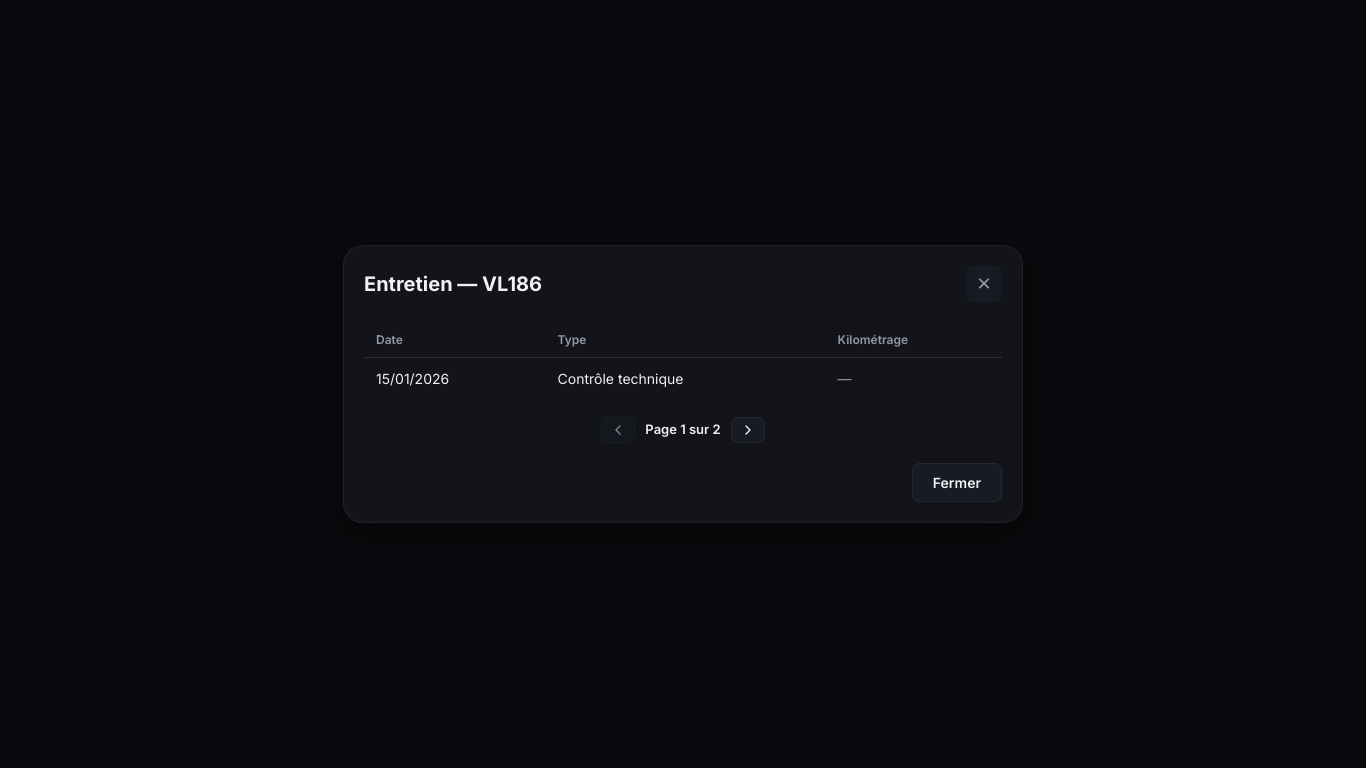
Scenario: MaintenanceHistoryModal › navigue entre les pages
Expected: the text "Contrôle technique" is shown, [546,358,826,401]
Expected: the text "Page 1 sur 2" is shown, [641,419,725,440]
Click the button named "Page suivante".
click(748, 430)  # box [731,417,765,443]
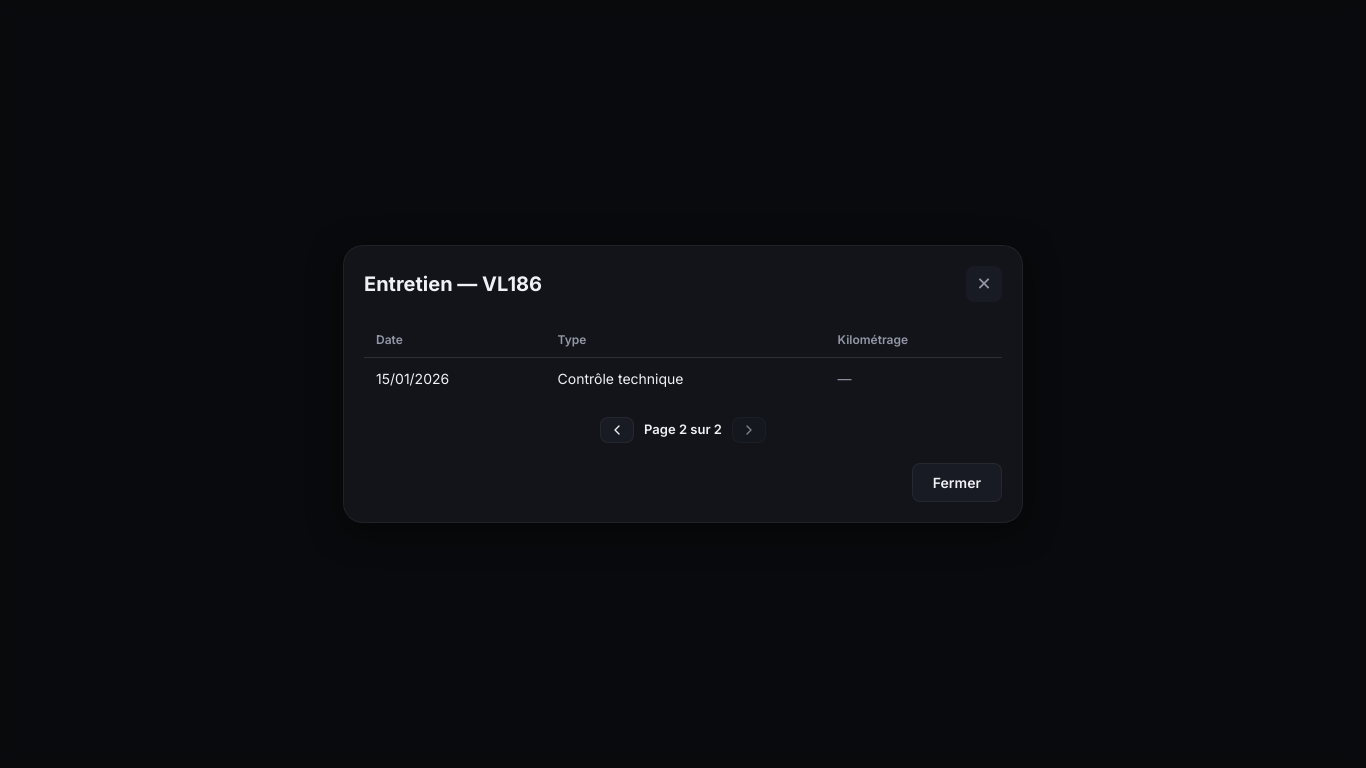
Now the text "Page 2 sur 2" is shown, box [640,419,726,440]
